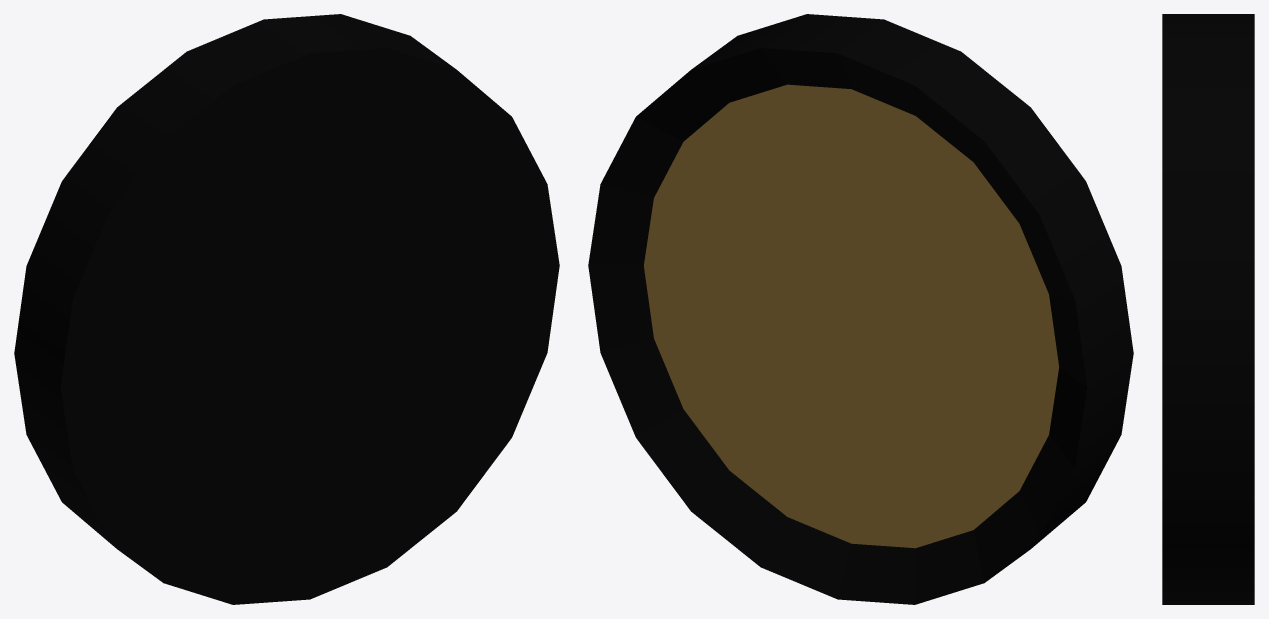
Rendered from CircleFrame.fbx.
3 views of the same model, side by side, from view 1: azimuth 30°, elevation 25°; view 2: azimuth 150°, elevation 25°; view 3: azimuth 270°, elevation 25° (orthographic).
Parts seen in each view (by area): view 1: pCylinder2; view 2: pCylinder2; view 3: pCylinder2.
Part boxes in pixels (left/top/right/bottom): pCylinder2: left=14, top=14, right=559, bottom=604; pCylinder2: left=588, top=14, right=1133, bottom=604; pCylinder2: left=1162, top=14, right=1254, bottom=604.
Size of the model in its own units: 2.42 by 2.53 by 0.3899.
Materials: 1 (1 with a texture image).
